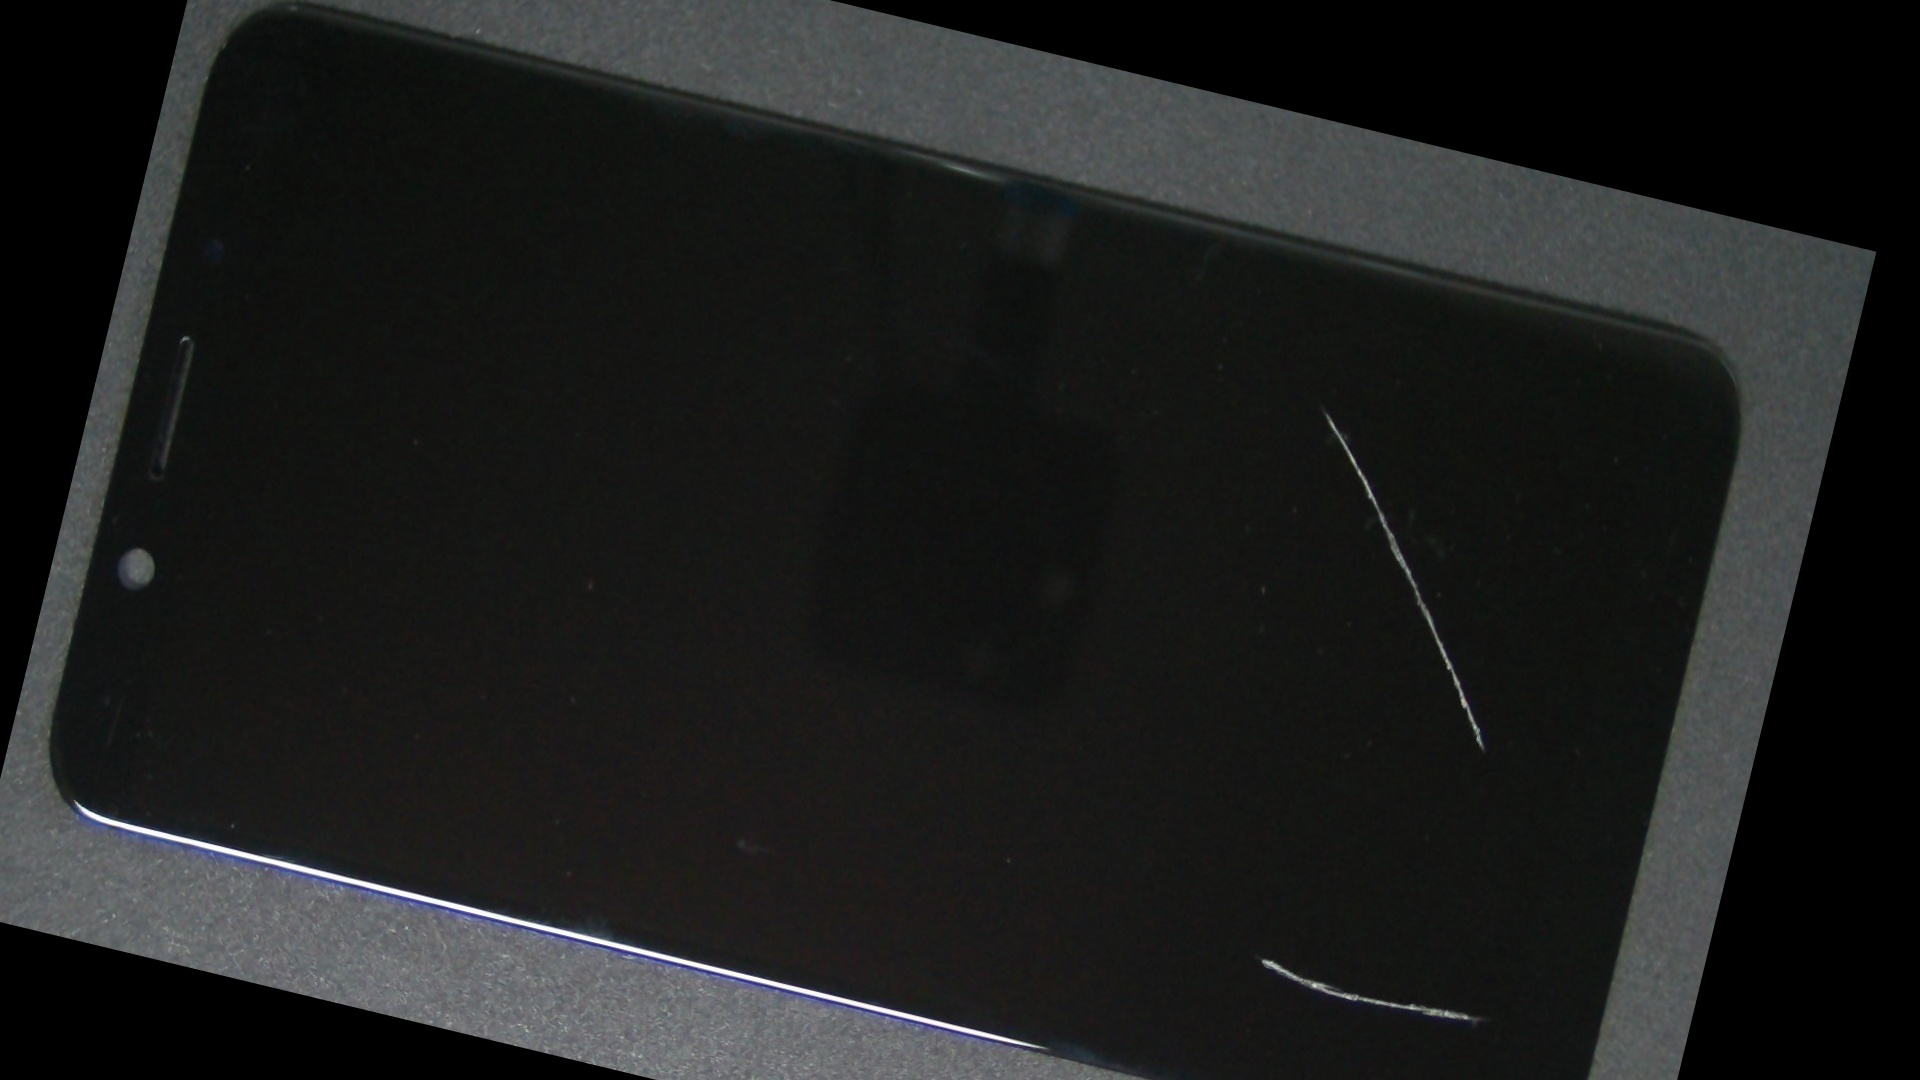oil: (587, 405, 1780, 1080), (708, 131, 1844, 663)
